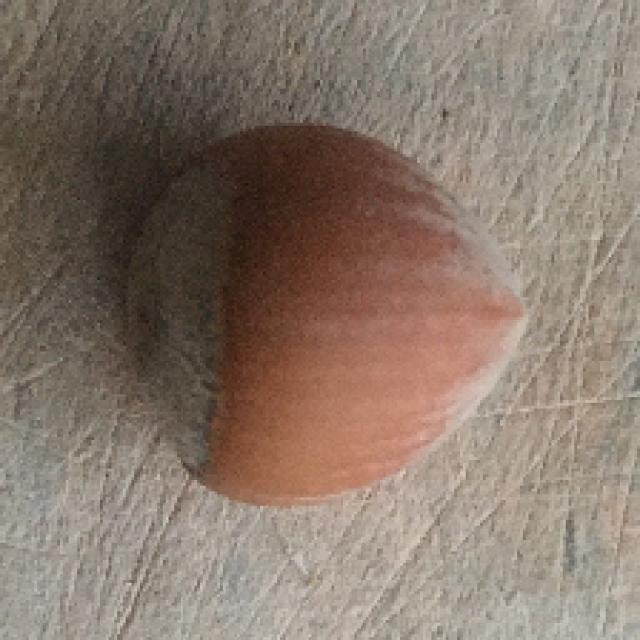qualityHazelnut: (106, 112, 542, 510)
